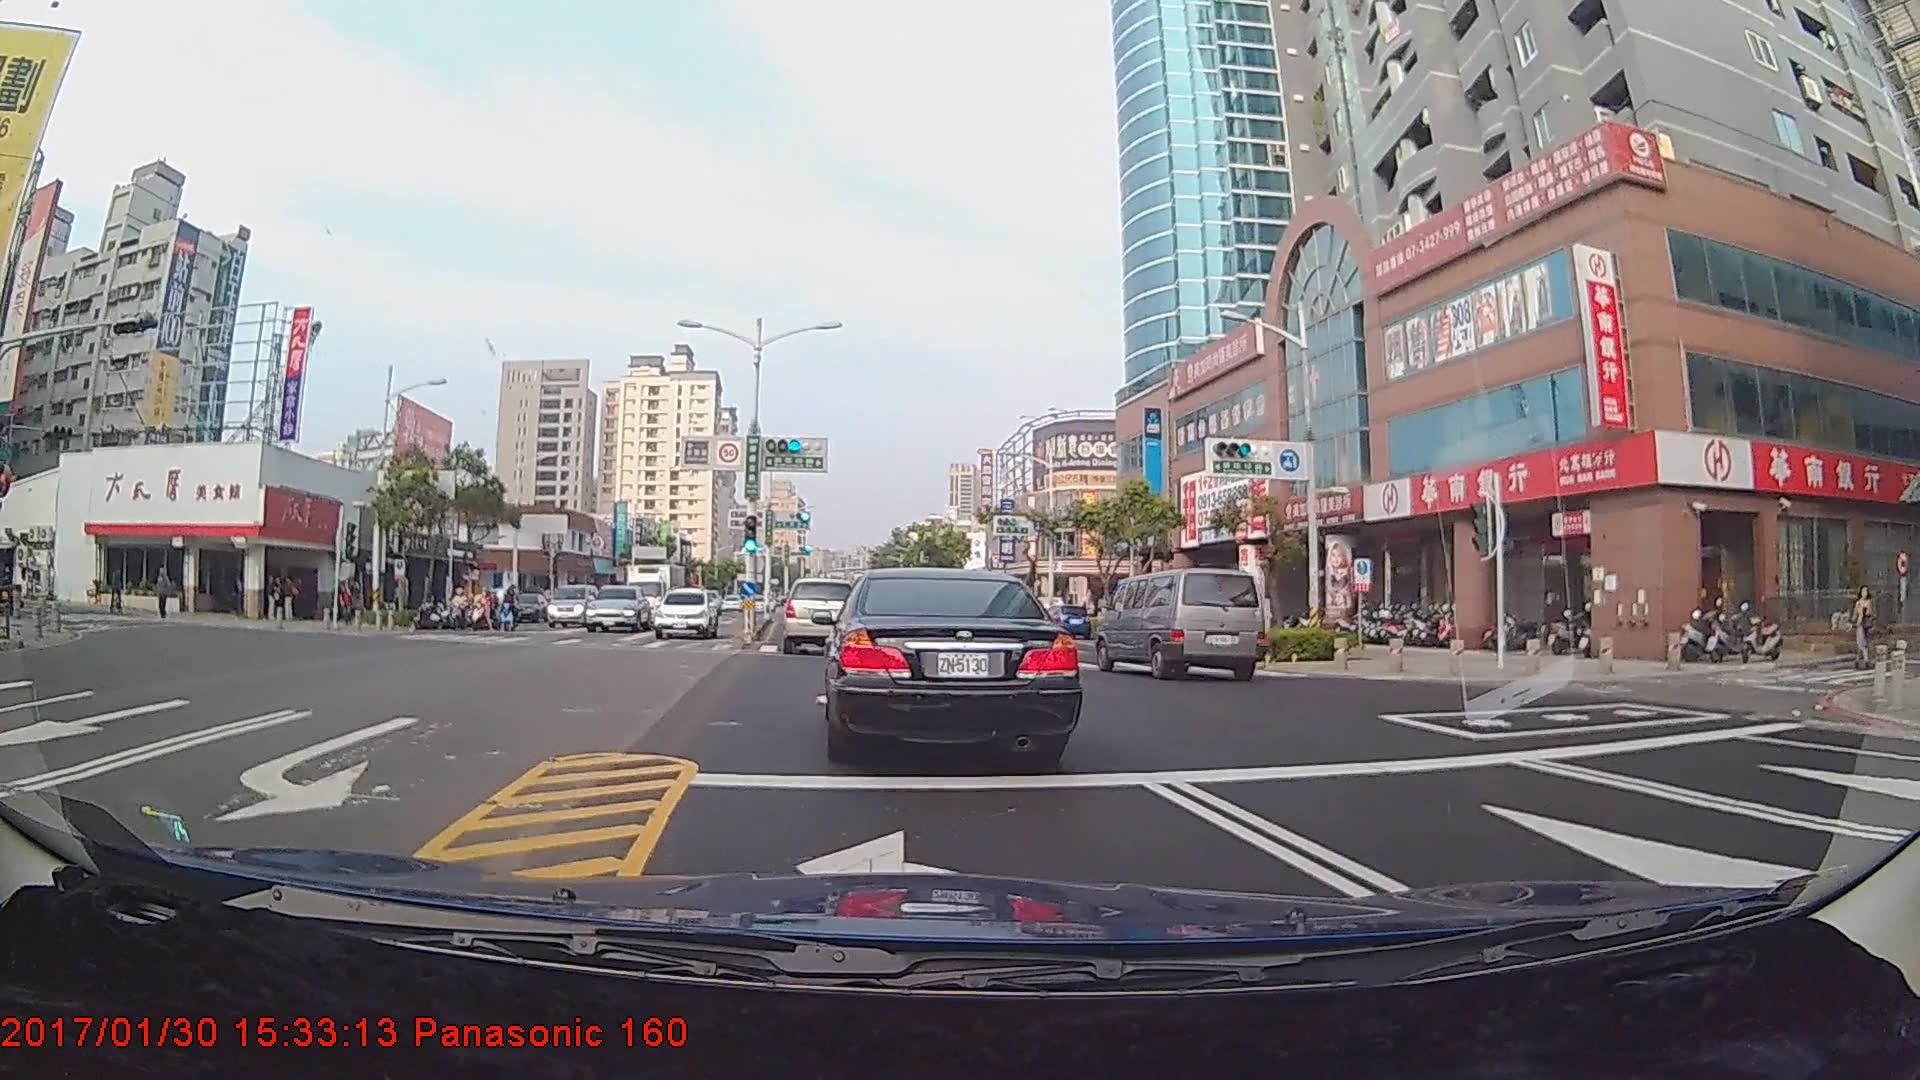pedestrian: (1851, 588, 1877, 663), (267, 574, 287, 624), (151, 568, 171, 618), (281, 576, 301, 624)
vehicle: (821, 567, 1074, 757), (1096, 565, 1262, 681), (784, 578, 861, 655), (625, 556, 689, 629), (655, 586, 719, 640), (583, 585, 654, 633), (548, 581, 602, 627), (1037, 602, 1088, 642)
